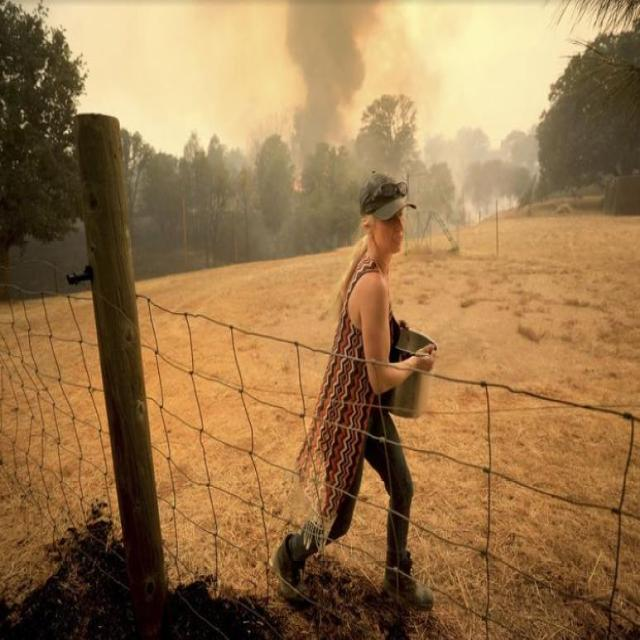Smoke: (264, 0, 456, 198), (450, 184, 526, 224)
